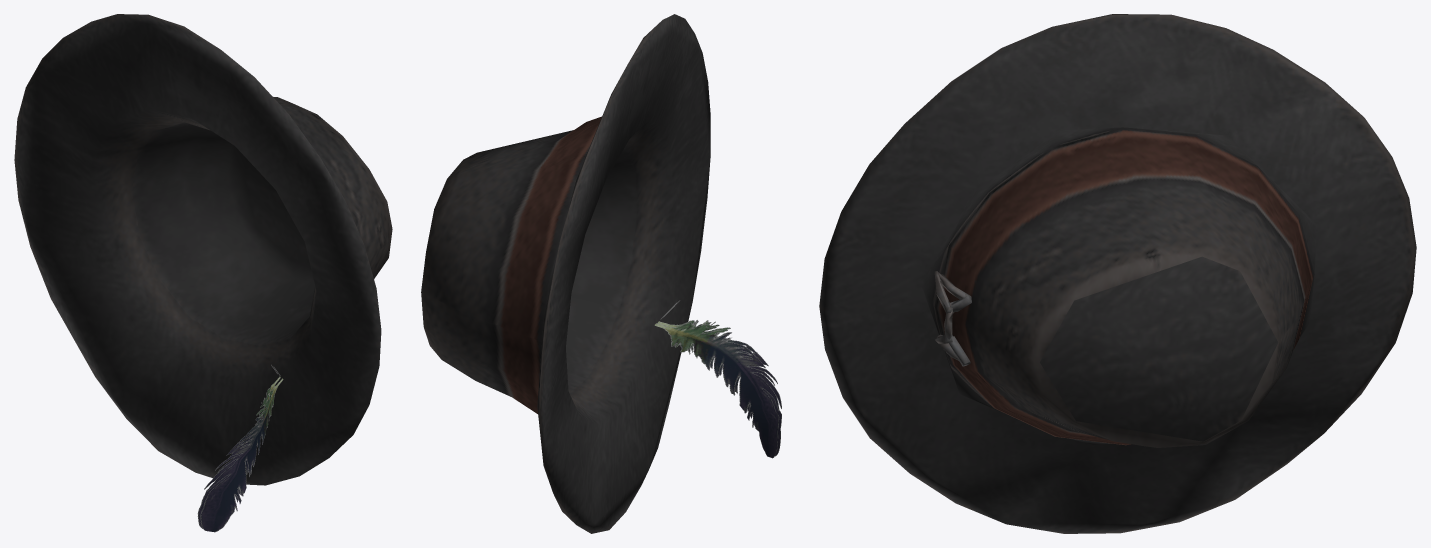
The model's file is M_BrimmedHat.fbx.
3 renders of one model, left to right at view 1: azimuth 30°, elevation 25°; view 2: azimuth 150°, elevation 25°; view 3: azimuth 270°, elevation 25°, orthographic. The views are drawn at different scales.
Parts seen in each view (by area): view 1: BrimmedHat; view 2: BrimmedHat; view 3: BrimmedHat.
Part boxes in pixels (bbox=[...]): BrimmedHat: bbox=[14, 14, 392, 532]; BrimmedHat: bbox=[421, 14, 781, 533]; BrimmedHat: bbox=[819, 14, 1416, 533].
Bounding box in the file's own units: 0.1334 × 0.2321 × 0.2463.
